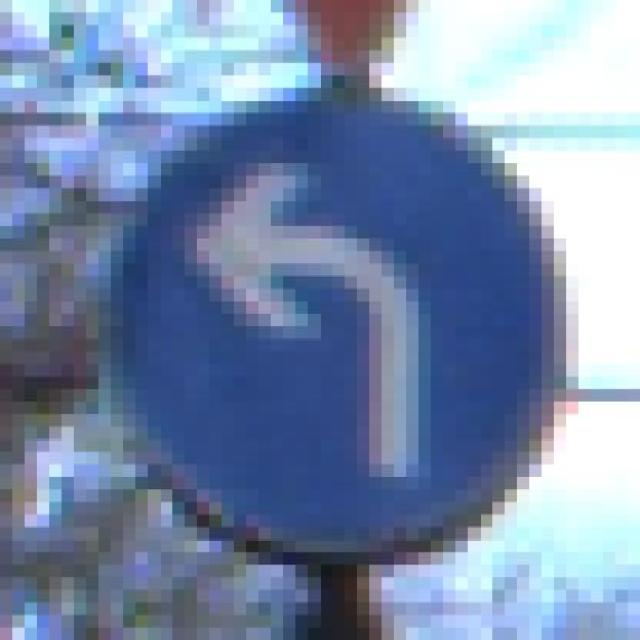Turn left ahead: (86, 76, 566, 564)
